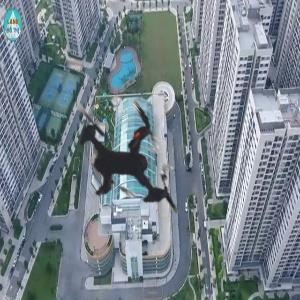drone: (26, 57, 233, 264)
